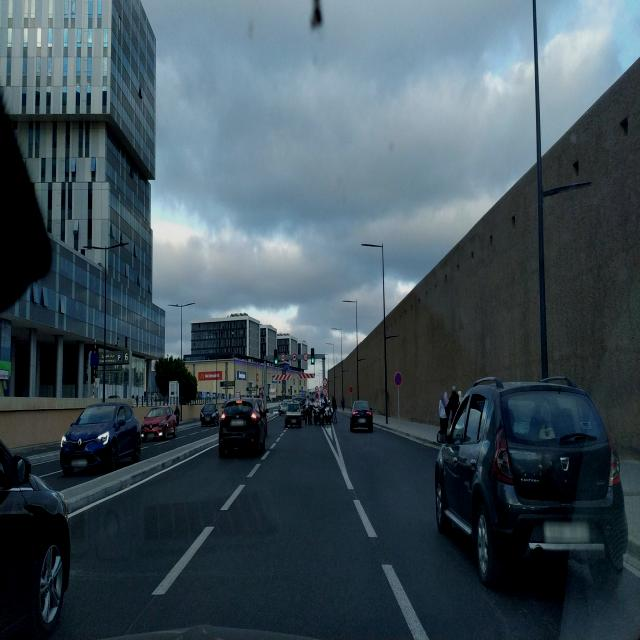car: (434, 373, 628, 589), (0, 407, 71, 638), (59, 398, 141, 477), (218, 393, 266, 457), (141, 403, 177, 442), (349, 399, 373, 433), (200, 399, 220, 427), (285, 400, 302, 428), (278, 399, 288, 416)
